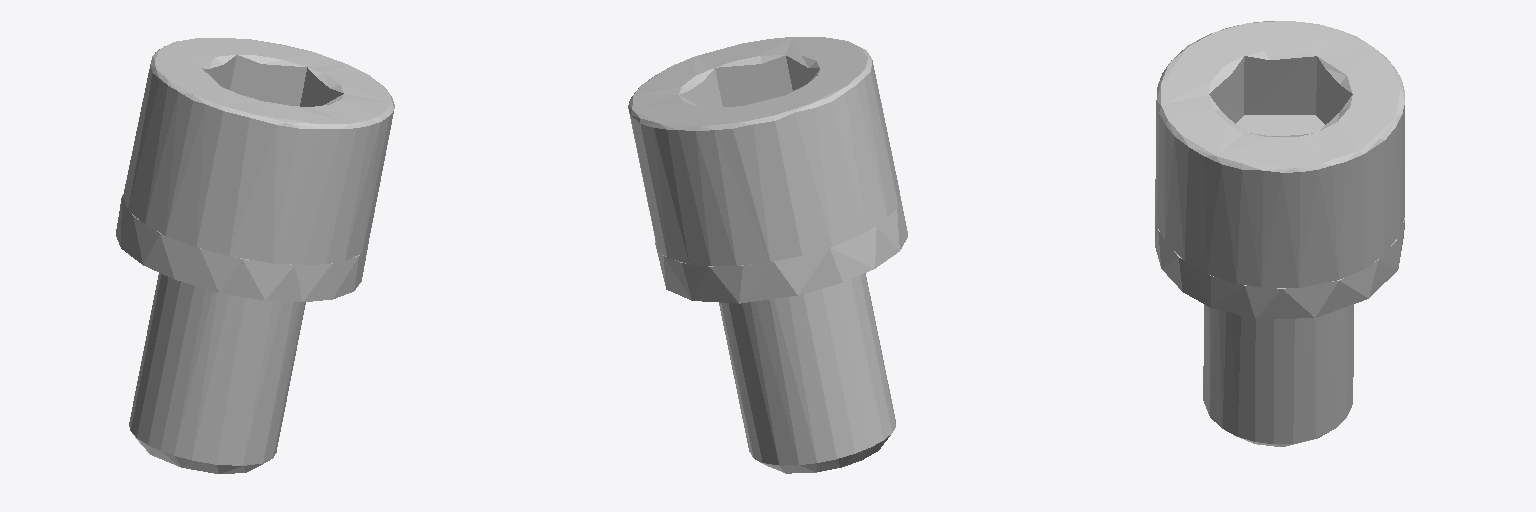
Rendered from Abfrage_Schraube.obj.
3 renders of one model, left to right at view 1: azimuth 30°, elevation 25°; view 2: azimuth 150°, elevation 25°; view 3: azimuth 270°, elevation 25°, orthographic.
Parts seen in each view (by area): view 1: Pneumatikspanner.011, Pneumatikspanner.012; view 2: Pneumatikspanner.011, Pneumatikspanner.012; view 3: Pneumatikspanner.011, Pneumatikspanner.012.
Boxes of the visible parts, x1=… form: Pneumatikspanner.011: x1=123, y1=38, x2=394, y2=473; Pneumatikspanner.012: x1=116, y1=195, x2=367, y2=301; Pneumatikspanner.011: x1=628, y1=37, x2=899, y2=473; Pneumatikspanner.012: x1=655, y1=196, x2=907, y2=303; Pneumatikspanner.011: x1=1155, y1=21, x2=1404, y2=446; Pneumatikspanner.012: x1=1155, y1=212, x2=1404, y2=318.
Bounding box in the file's own units: 0.0113 × 0.0172 × 0.01.